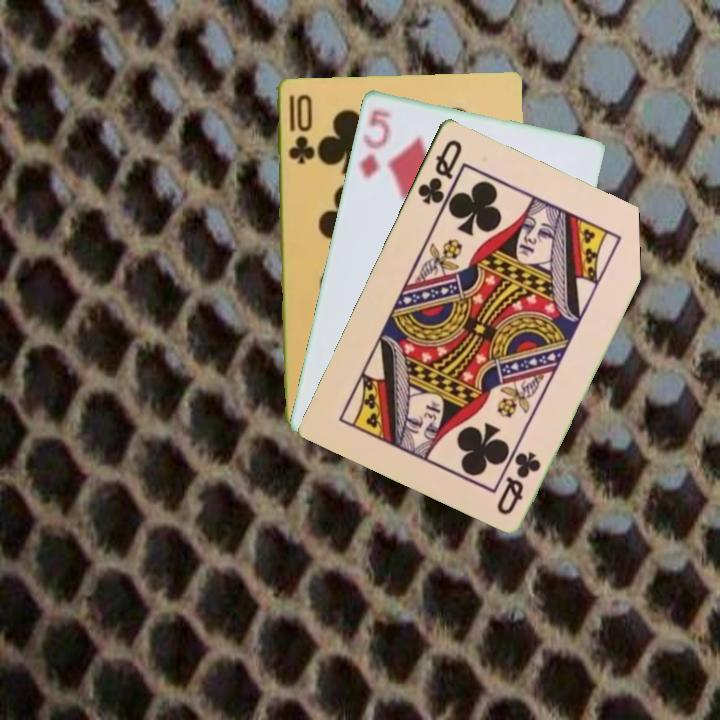10c: (284, 90, 315, 167)
5d: (355, 105, 395, 182)
Qc: (413, 135, 465, 207), (493, 447, 544, 518)
